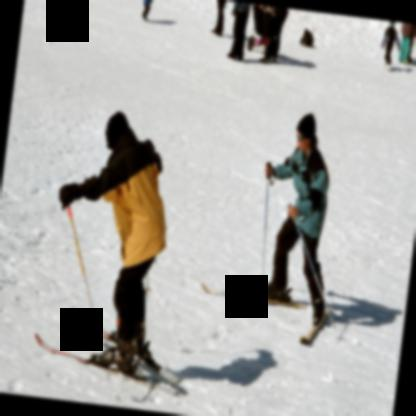backpack: (300, 28, 314, 47)
